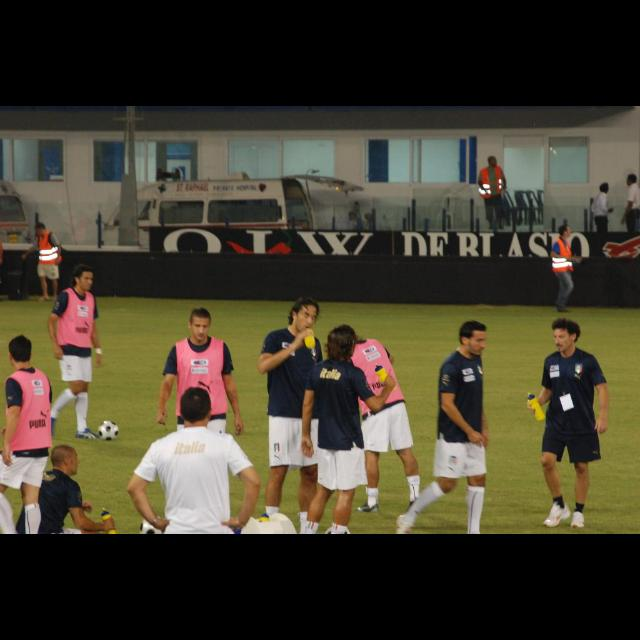Football: (96, 420, 118, 440)
